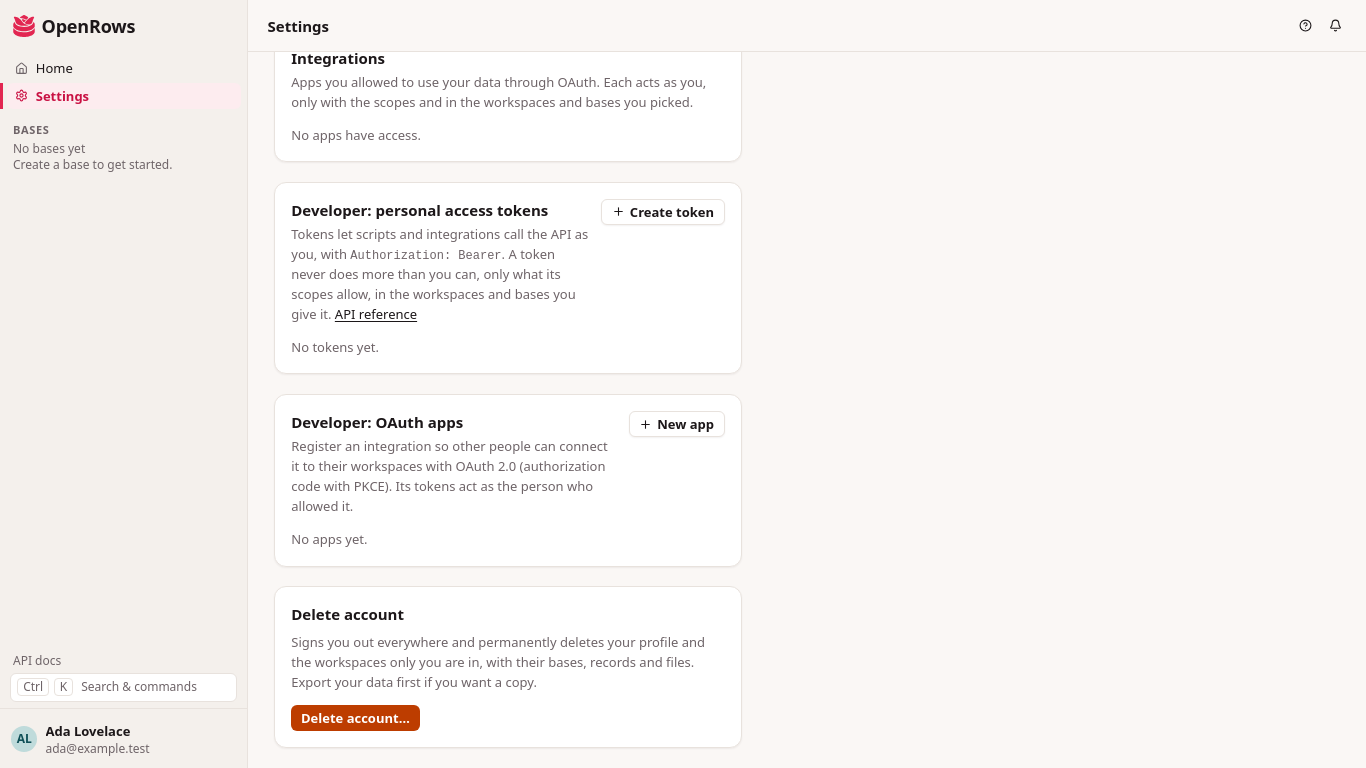
Test: OAuth apps (#125) › refuses a redirect URI that isn't https or localhost
The image size is (1366, 768).
(page scrolled)
Click the button "New app": (677, 424) [629,411,725,437]
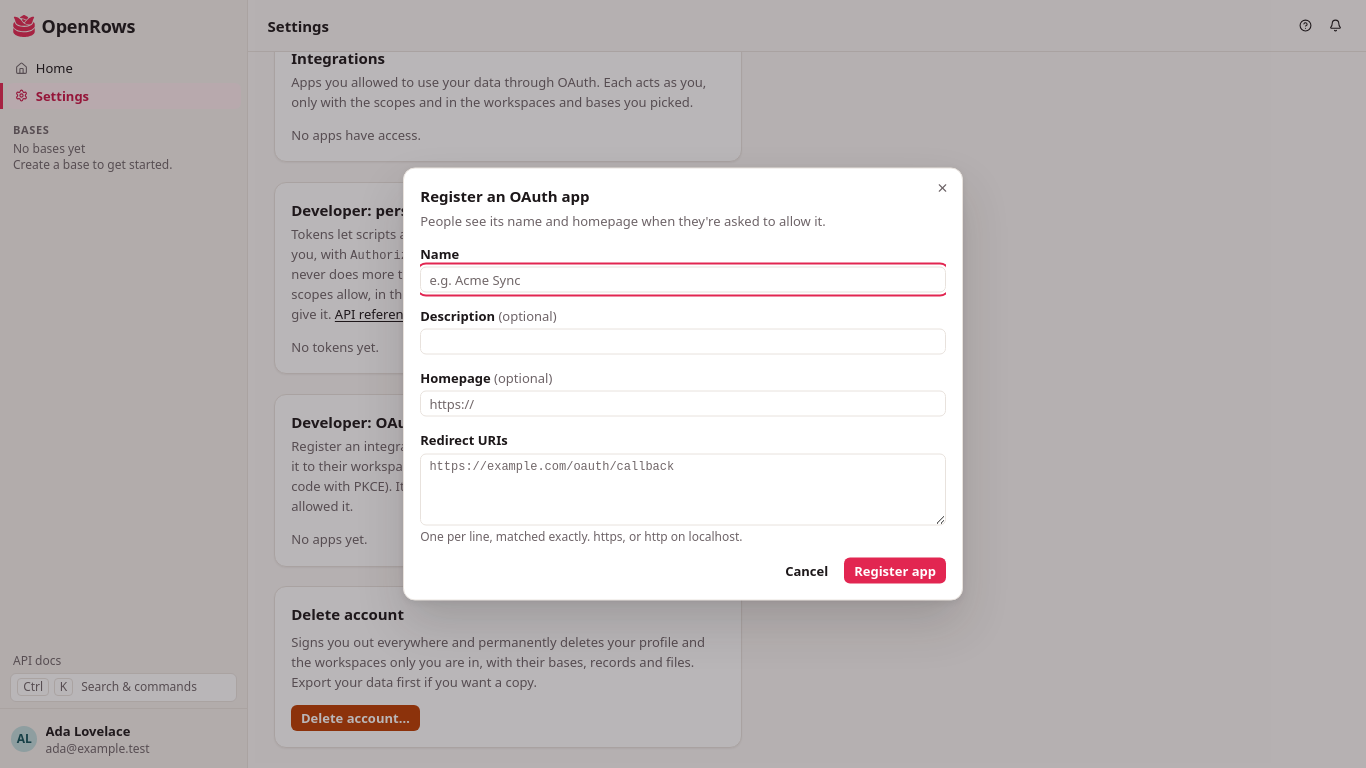
In the field labelled "Name": (683, 279) [420,266,946,292], type "Bad"
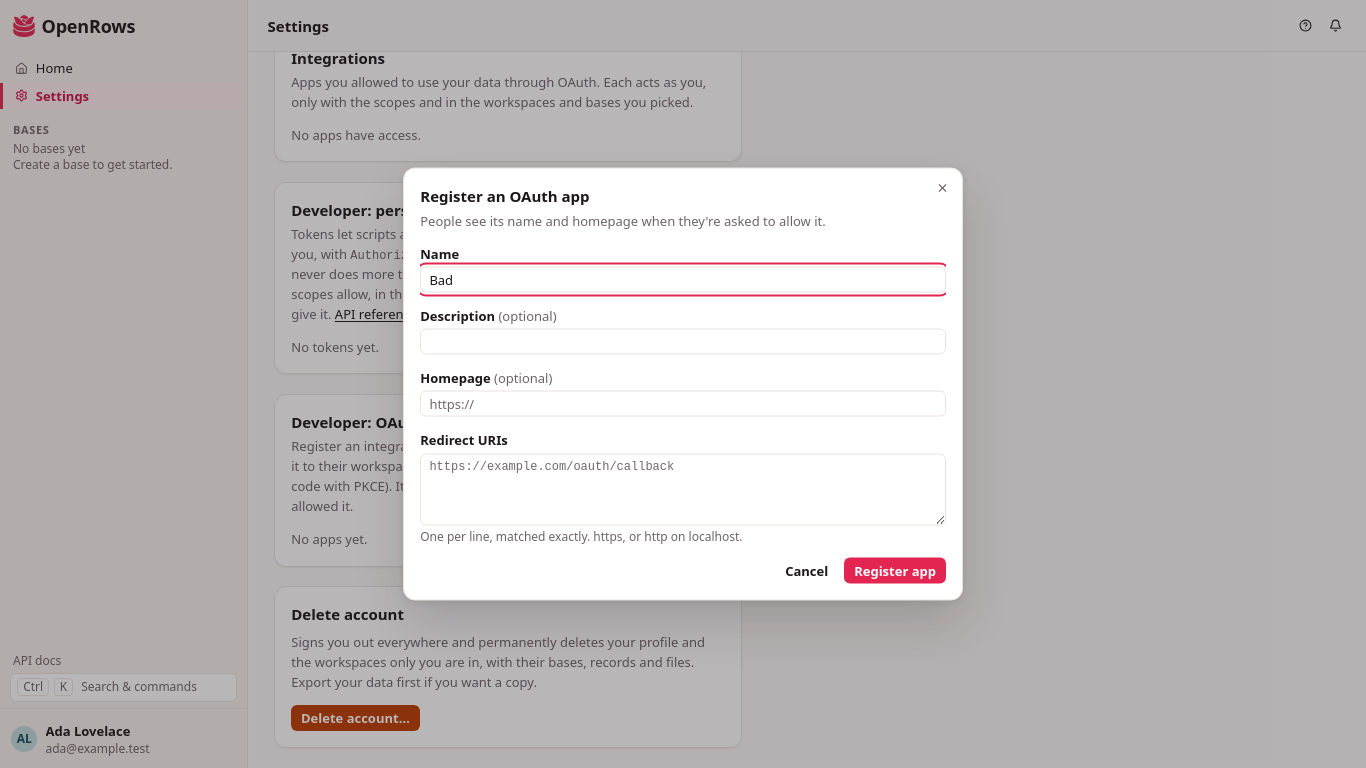
In the text box labelled "Redirect URIs": (683, 489) [420,453,946,525], type "http://acme.test/cb"
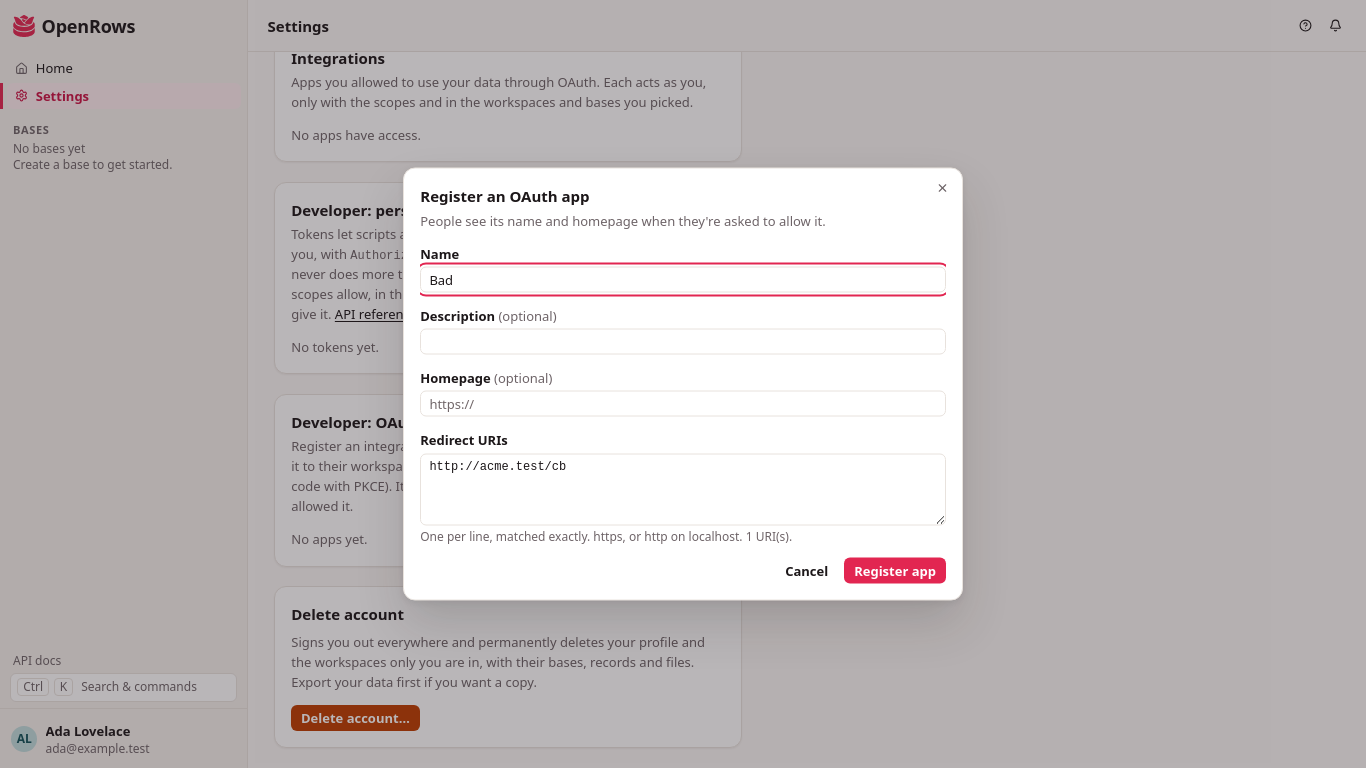
Click the button "Register app": (895, 570) [844,557,946,583]
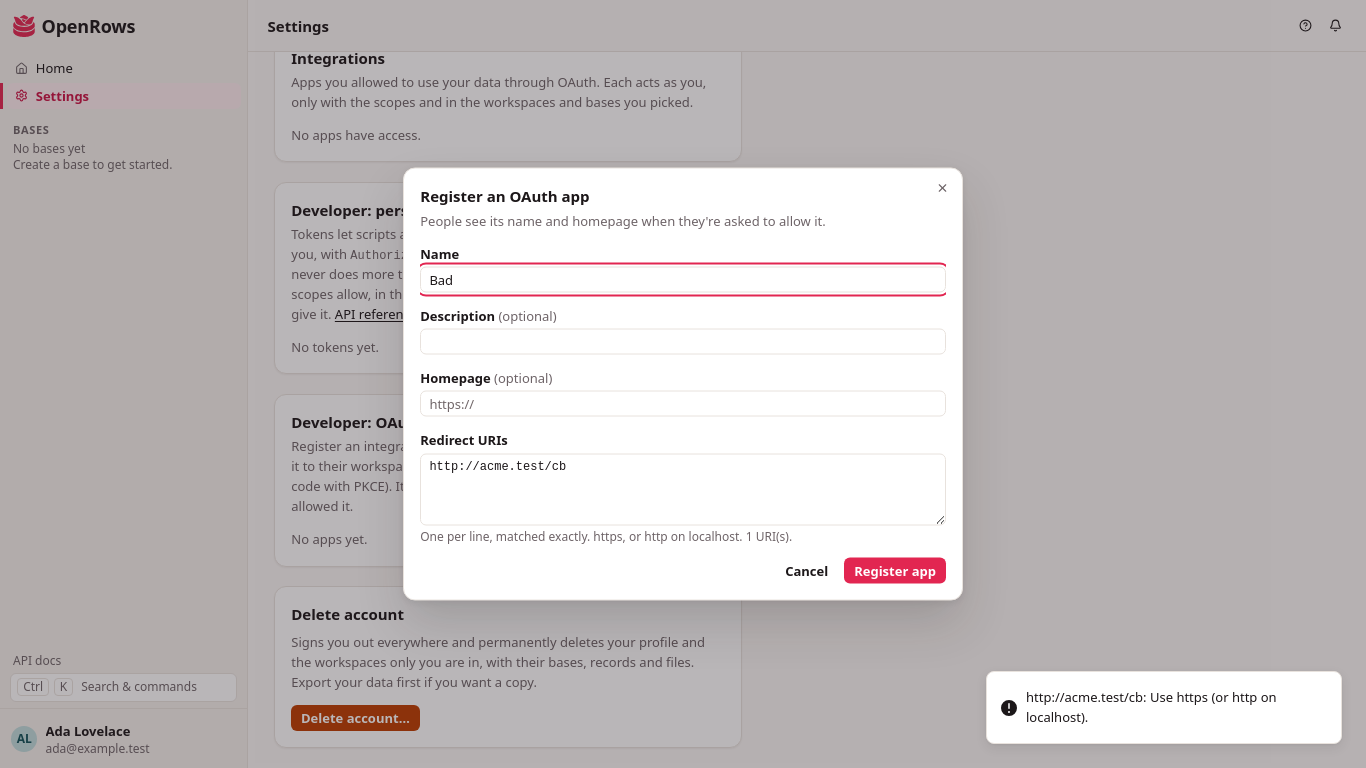
Expected: the text "http://acme.test/cb: Use https (or http on localhost)." is shown, [1026,688,1277,726]
